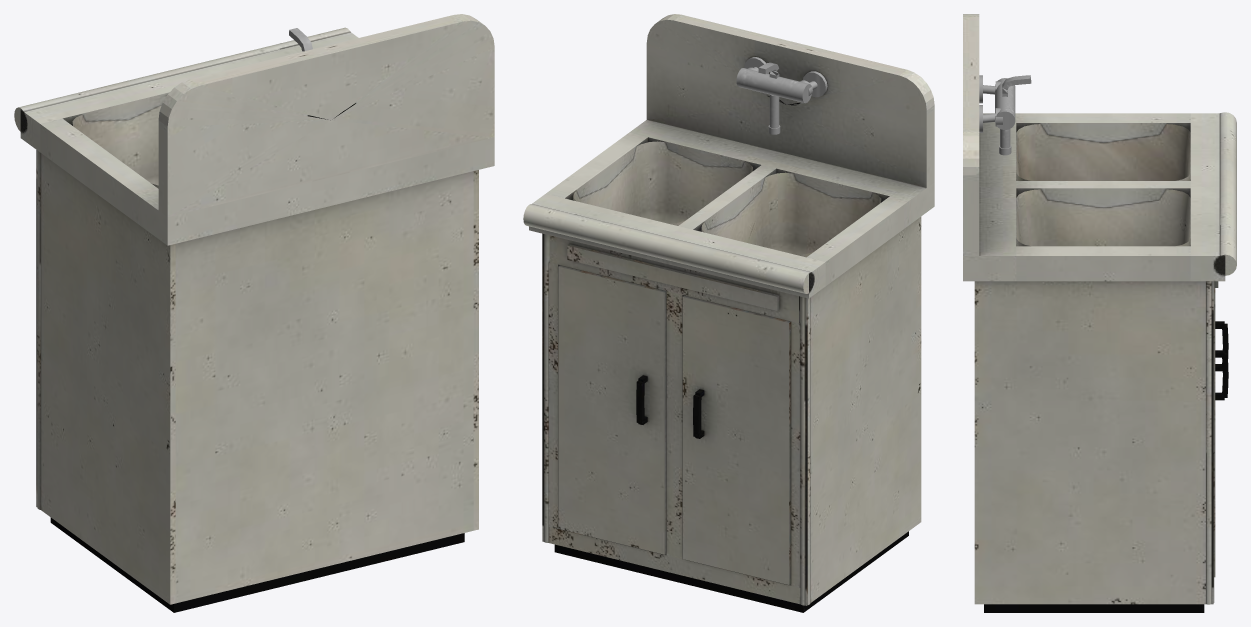
File: sink_backsplash_web.glb
The picture shows the model from 3 angles, left to right: view 1: azimuth 30°, elevation 25°; view 2: azimuth 150°, elevation 25°; view 3: azimuth 270°, elevation 25°; orthographic projection. The views are drawn at different scales.
Parts seen in each view (by area): view 1: SinkBacksplash_Body; view 2: SinkBacksplash_Body, Door_R_Mesh, Door_L_Mesh, Chrome_FaucetBody; view 3: SinkBacksplash_Body, Chrome_FaucetBody, Door_L_Mesh.
Boxes of the visible parts, <box> form: SinkBacksplash_Body: <box>14,14,494,612</box>; SinkBacksplash_Body: <box>523,14,934,612</box>; Door_R_Mesh: <box>682,295,791,584</box>; Door_L_Mesh: <box>558,265,666,554</box>; Chrome_FaucetBody: <box>736,57,827,103</box>; SinkBacksplash_Body: <box>963,14,1236,612</box>; Chrome_FaucetBody: <box>979,75,1031,132</box>; Door_L_Mesh: <box>1214,288,1228,577</box>.
Bounding box in the file's own units: 0.72 × 1.12 × 0.585.
Materials: 2 (2 with a texture image).
